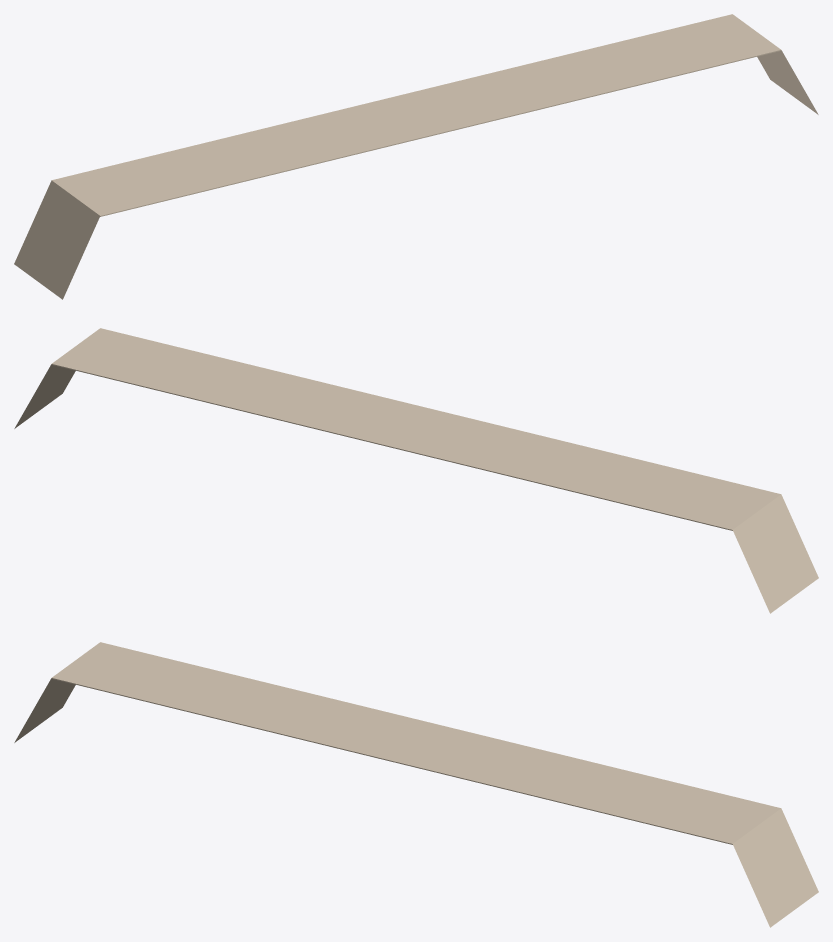
The model's file is SM_TableRunner.fbx.
3 renders of one model, top to bottom at view 1: azimuth 30°, elevation 25°; view 2: azimuth 150°, elevation 25°; view 3: azimuth 330°, elevation 25°, orthographic.
Visible parts, largest first — view 1: SM_TableRunner; view 2: SM_TableRunner; view 3: SM_TableRunner.
Part boxes in pixels (x1=…): SM_TableRunner: x1=14, y1=14, x2=818, y2=299; SM_TableRunner: x1=14, y1=328, x2=818, y2=613; SM_TableRunner: x1=14, y1=642, x2=818, y2=927.
Bounding box in the file's own units: 322 × 30.4 × 36.
